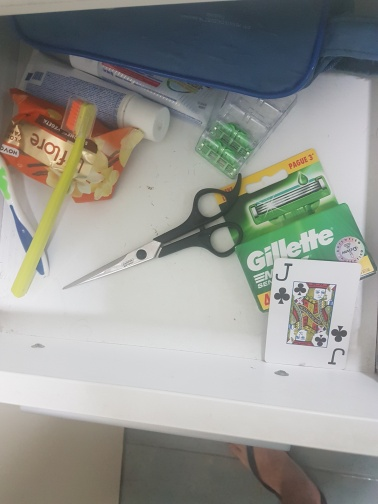jack: (262, 259, 360, 372)
